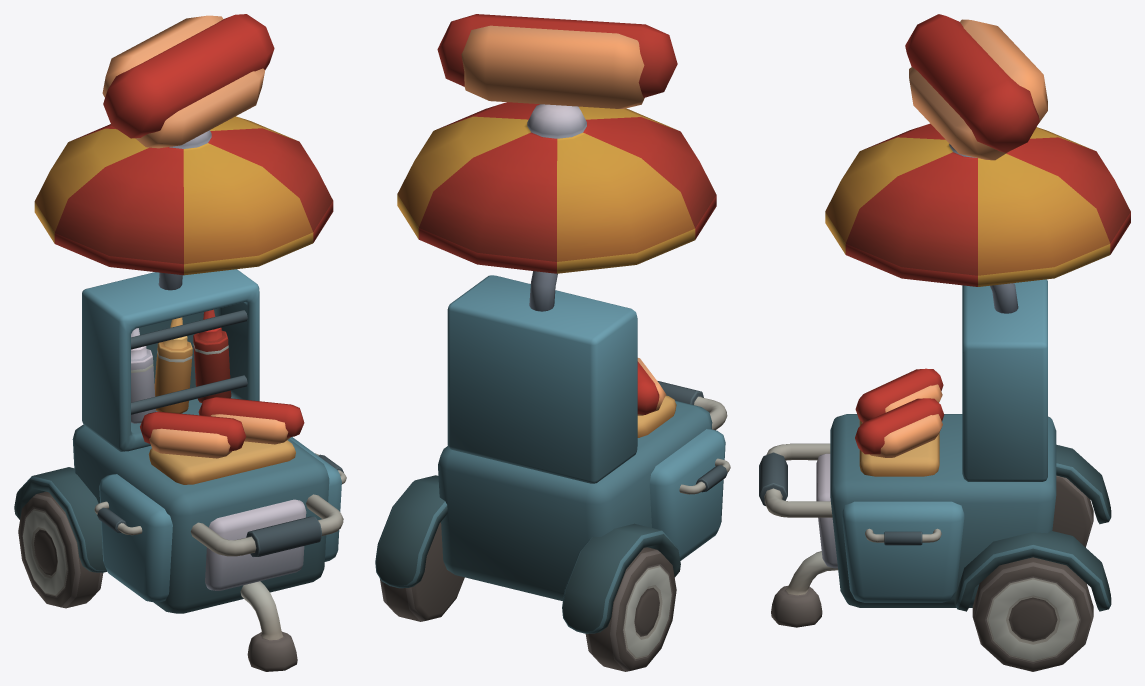
File: mct_build_full_stand_hotdog.fbx
3 views of the same model, side by side, from view 1: azimuth 30°, elevation 25°; view 2: azimuth 150°, elevation 25°; view 3: azimuth 270°, elevation 25° (orthographic). The views are drawn at different scales.
Visible parts, largest first — view 1: stand_hotdog; view 2: stand_hotdog; view 3: stand_hotdog.
Part boxes in pixels (<box>): stand_hotdog: <box>14,14,346,671</box>; stand_hotdog: <box>375,14,730,671</box>; stand_hotdog: <box>759,14,1130,671</box>.
Size of the model in its own units: 158 by 326 by 192.
